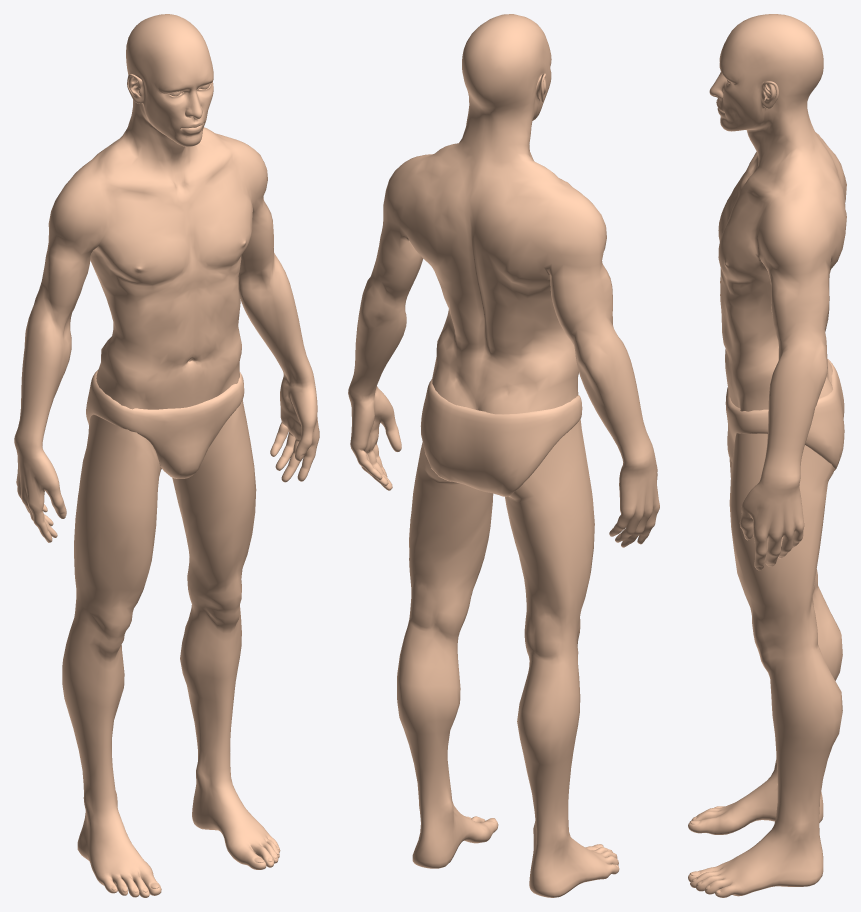
The model's file is human.obj.
3 views of the same model, side by side, from view 1: azimuth 30°, elevation 25°; view 2: azimuth 150°, elevation 25°; view 3: azimuth 270°, elevation 25° (orthographic). The views are drawn at different scales.
Visible parts, largest first — view 1: FreeAll_FreeAllSTL; view 2: FreeAll_FreeAllSTL; view 3: FreeAll_FreeAllSTL.
Boxes of the visible parts, x1,y1,x2,y2 form: FreeAll_FreeAllSTL: (14, 14, 319, 897); FreeAll_FreeAllSTL: (348, 14, 659, 897); FreeAll_FreeAllSTL: (688, 14, 846, 897).
Bounding box in the file's own units: 3.26 × 8.91 × 1.53.
